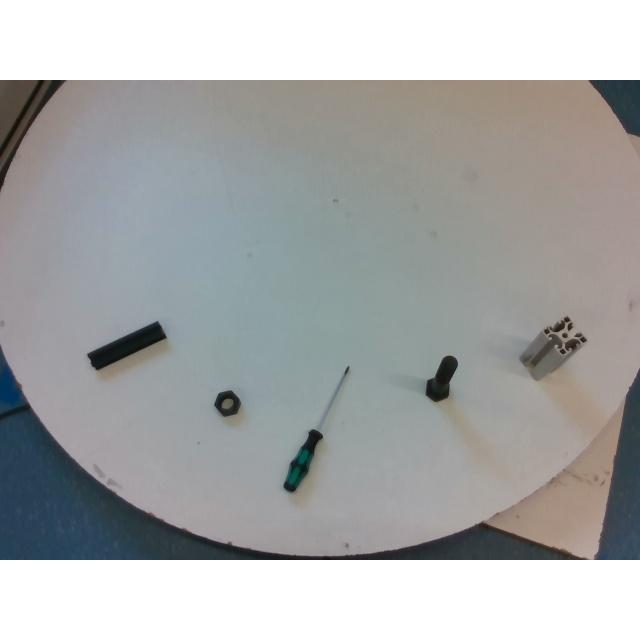F20_20_B: (87, 322, 165, 370)
M20: (214, 390, 240, 416)
M20_100: (425, 355, 457, 401)
S40_40_G: (518, 316, 586, 379)
Screwdriver: (283, 366, 349, 490)
